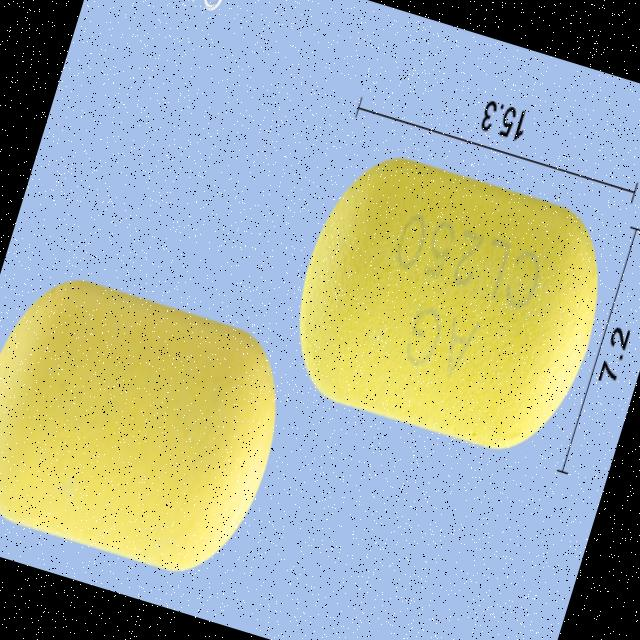Shuclari Tab: (270, 138, 625, 466), (0, 264, 302, 589)
